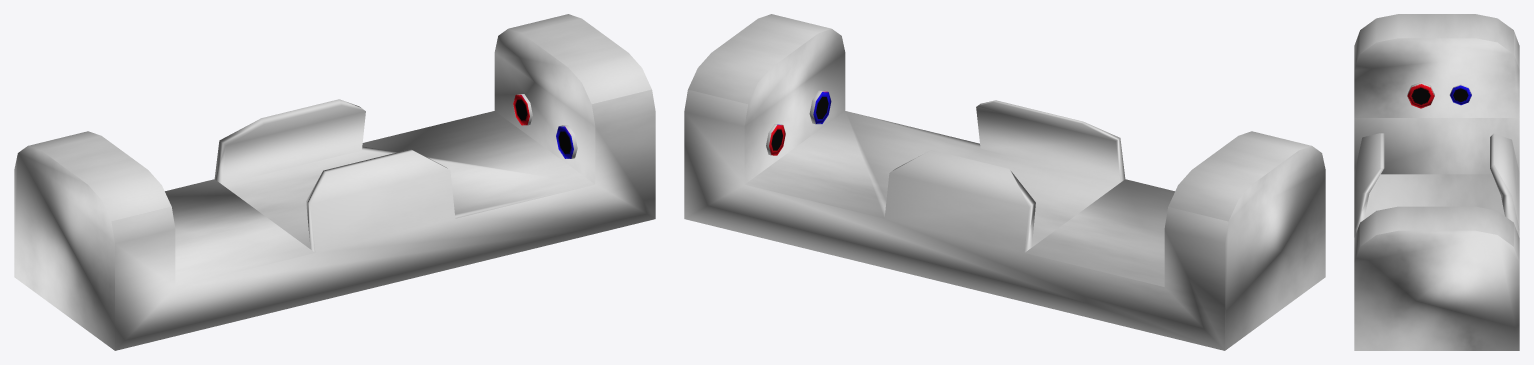
Rendered from TransformerPosition.fbx.
3 renders of one model, left to right at view 1: azimuth 30°, elevation 25°; view 2: azimuth 150°, elevation 25°; view 3: azimuth 270°, elevation 25°, orthographic. The views are drawn at different scales.
Visible parts, largest first — view 1: TransformerPositionLowPoly, TransformerPosition; view 2: TransformerPositionLowPoly, TransformerPosition; view 3: TransformerPositionLowPoly, TransformerPosition.
Part boxes in pixels (x1,y1,x2,y2): TransformerPositionLowPoly: (14,14,655,350); TransformerPosition: (513,94,577,158); TransformerPositionLowPoly: (684,14,1325,350); TransformerPosition: (766,90,831,155); TransformerPositionLowPoly: (1354,14,1519,350); TransformerPosition: (1407,82,1471,108).
Size of the model in its own units: 203 by 52.58 by 65.6.
